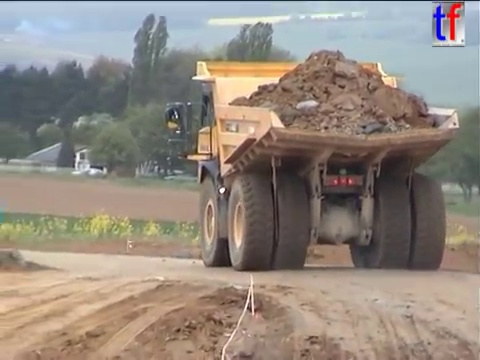truck: (162, 56, 462, 273)
